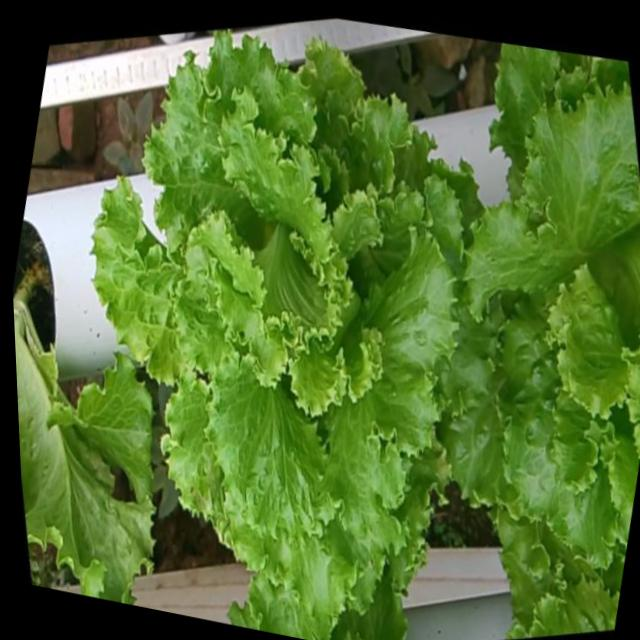Mature: (94, 31, 463, 612), (443, 77, 640, 564)
